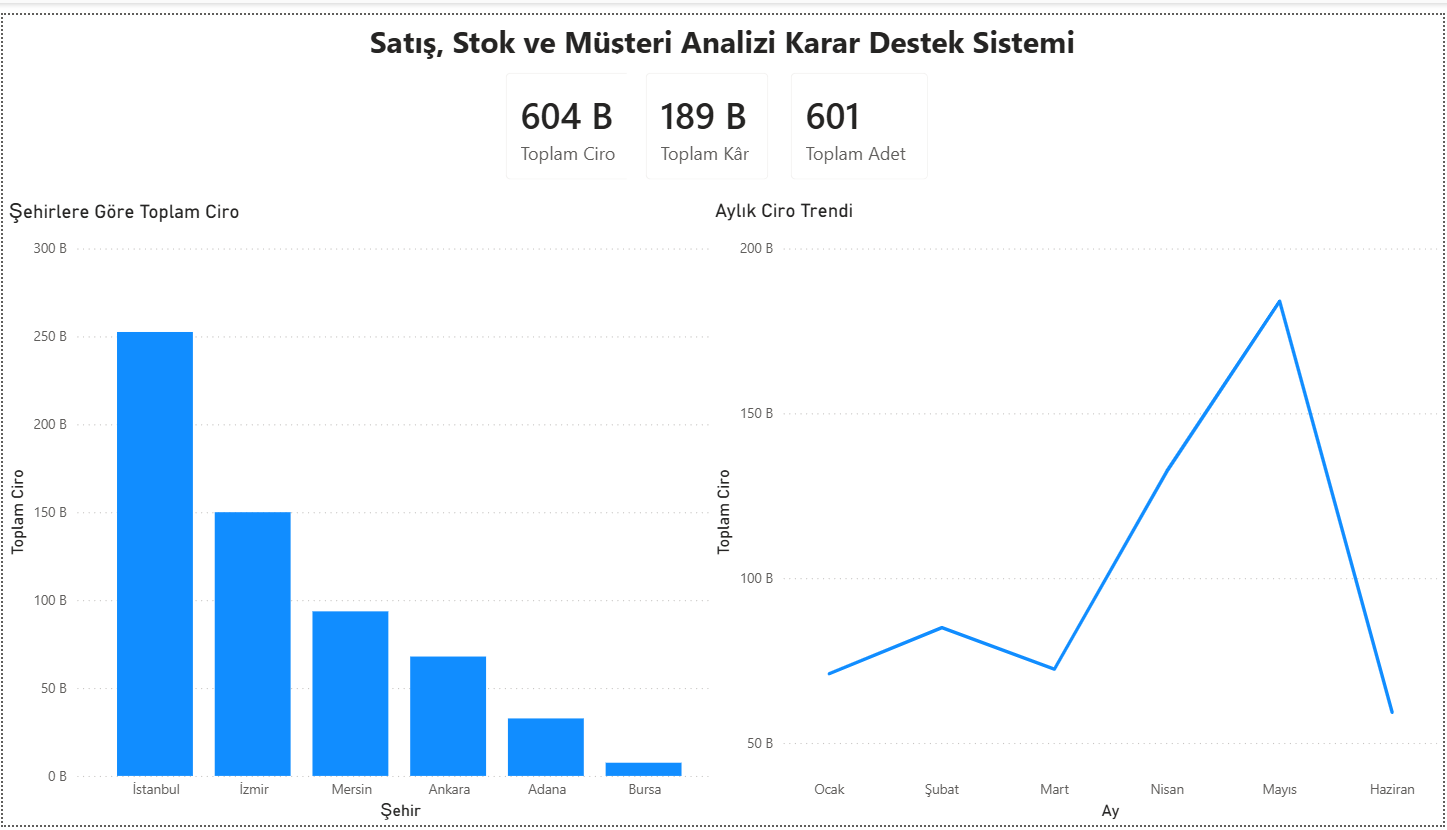

What the dashboard file says about the page in this screenshot:
{"tool":"powerbi","page":{"name":"Genel Bakış","canvas":[1280,720],"ordinal":0},"visuals":[{"type":"textbox","box":[0,0,1278.9,47],"z":0},{"type":"cardVisual","fields":{"Data":["Sum(ana_satis_verisi.Ciro)"]},"box":[430.1,34.2,146.7,129.6],"z":1000},{"type":"cardVisual","fields":{"Data":["Sum(ana_satis_verisi.Kâr)"]},"box":[554,34.2,143.8,129.6],"z":2000},{"type":"cardVisual","fields":{"Data":["Sum(ana_satis_verisi.Adet)"]},"box":[683.6,34.2,156.7,129.6],"z":3000},{"type":"clusteredColumnChart","title":"Şehirlere Göre Toplam Ciro","fields":{"Category":["ana_satis_verisi.Şehir"],"Y":["Sum(ana_satis_verisi.Ciro)"]},"box":[0,163.8,645.1,556.8],"z":4000},{"type":"lineChart","title":"Aylık Ciro Trendi","fields":{"Category":["ana_satis_verisi.Ay.Varyasyon.Tarih Hiyerarşisi.Ay"],"Y":["Sum(ana_satis_verisi.Ciro)"]},"box":[628,163.8,652.2,556.8],"z":5000}]}

Visuals, with their boxes in screenshot pixels (x1, y1, x2, y2), scaled from the page's 1280x720 canvas onto the 1447x830 screenshot:
textbox: 0, 0, 1446, 54
cardVisual - Sum(ana_satis_verisi.Ciro): 486, 39, 652, 189
cardVisual - Sum(ana_satis_verisi.Kâr): 626, 39, 789, 189
cardVisual - Sum(ana_satis_verisi.Adet): 773, 39, 950, 189
"Şehirlere Göre Toplam Ciro" clusteredColumnChart: 0, 189, 729, 829
"Aylık Ciro Trendi" lineChart: 710, 189, 1446, 829
